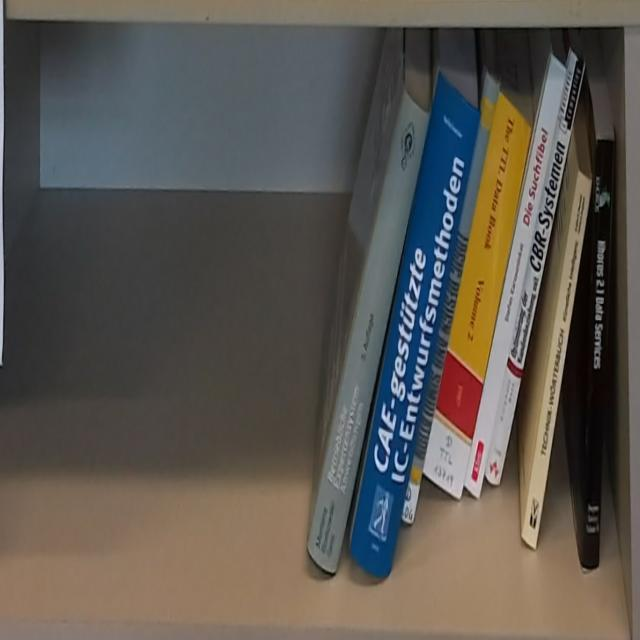Book Spine: (349, 73, 483, 576), (308, 85, 430, 579), (465, 49, 570, 502), (424, 91, 539, 503), (401, 72, 502, 526), (488, 50, 587, 488), (520, 163, 596, 550), (582, 135, 618, 574)
